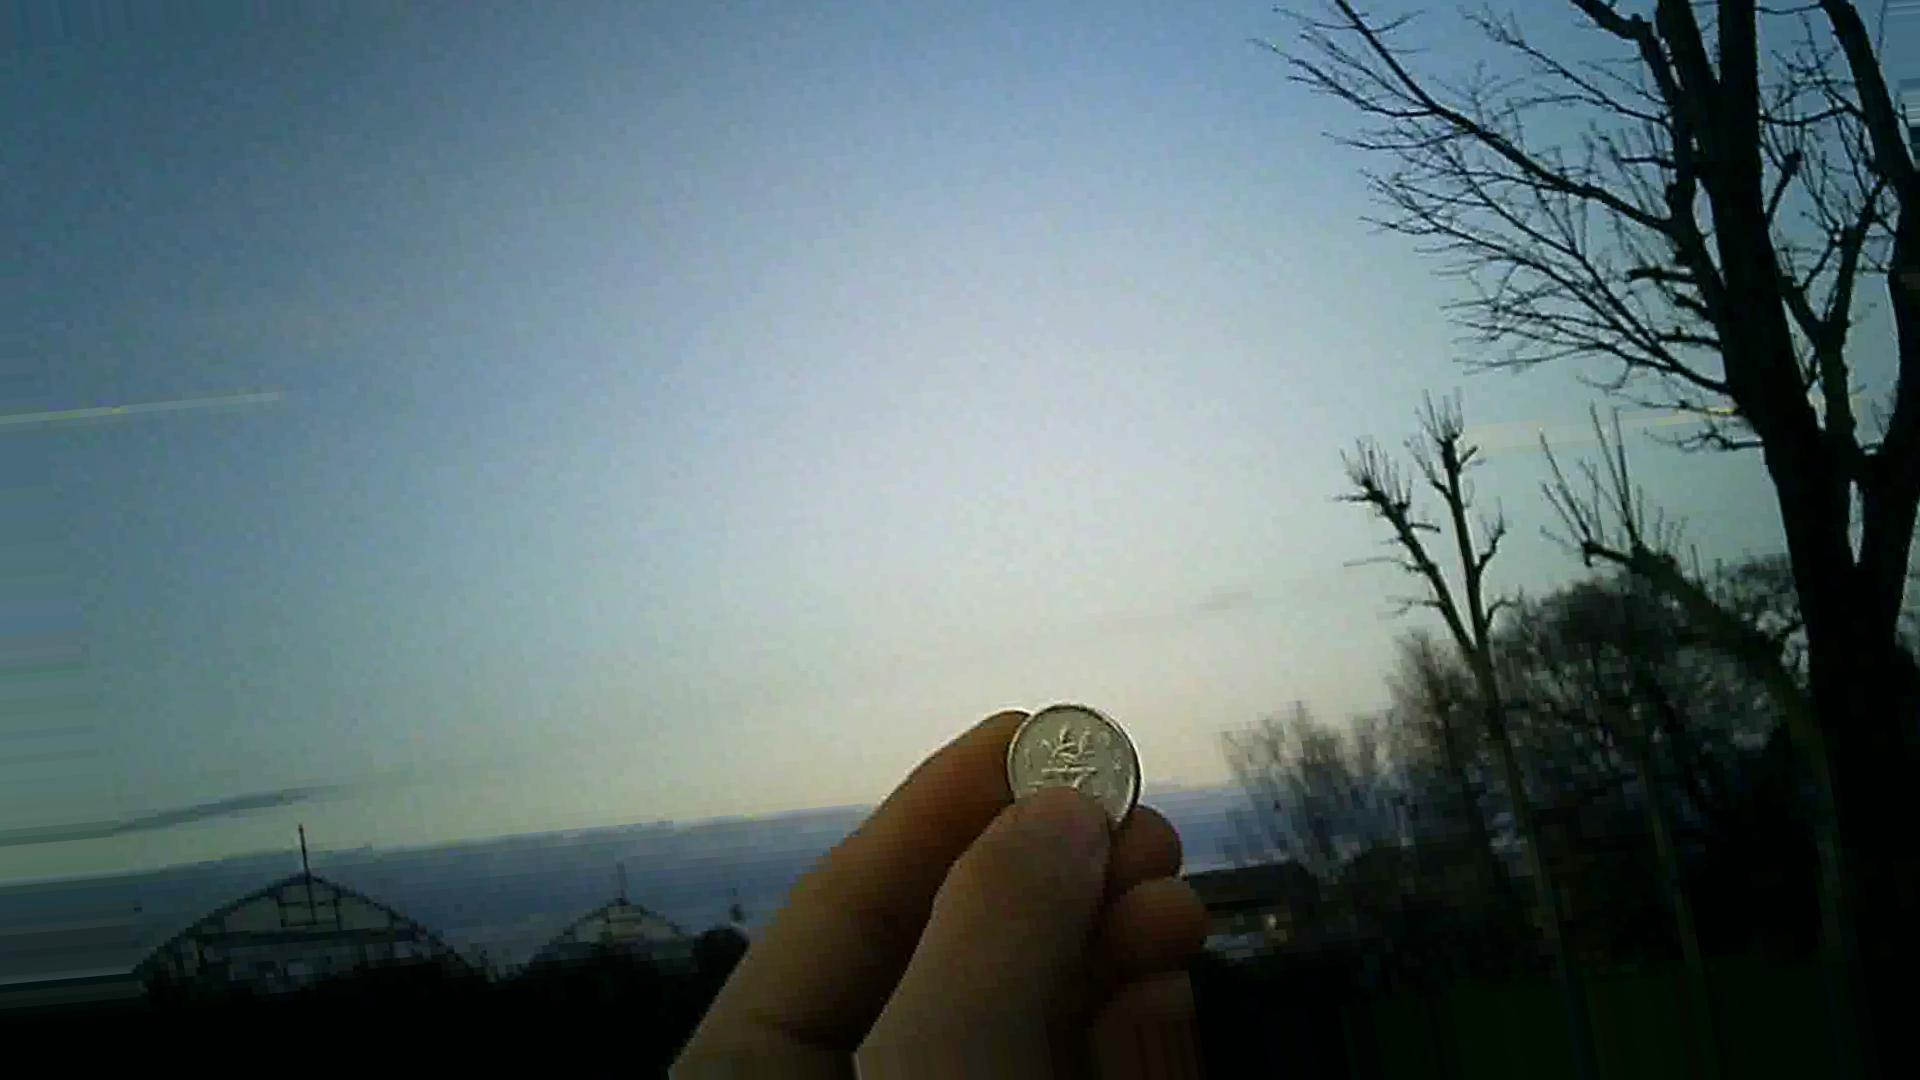1 Yen: (1006, 700, 1160, 851)
